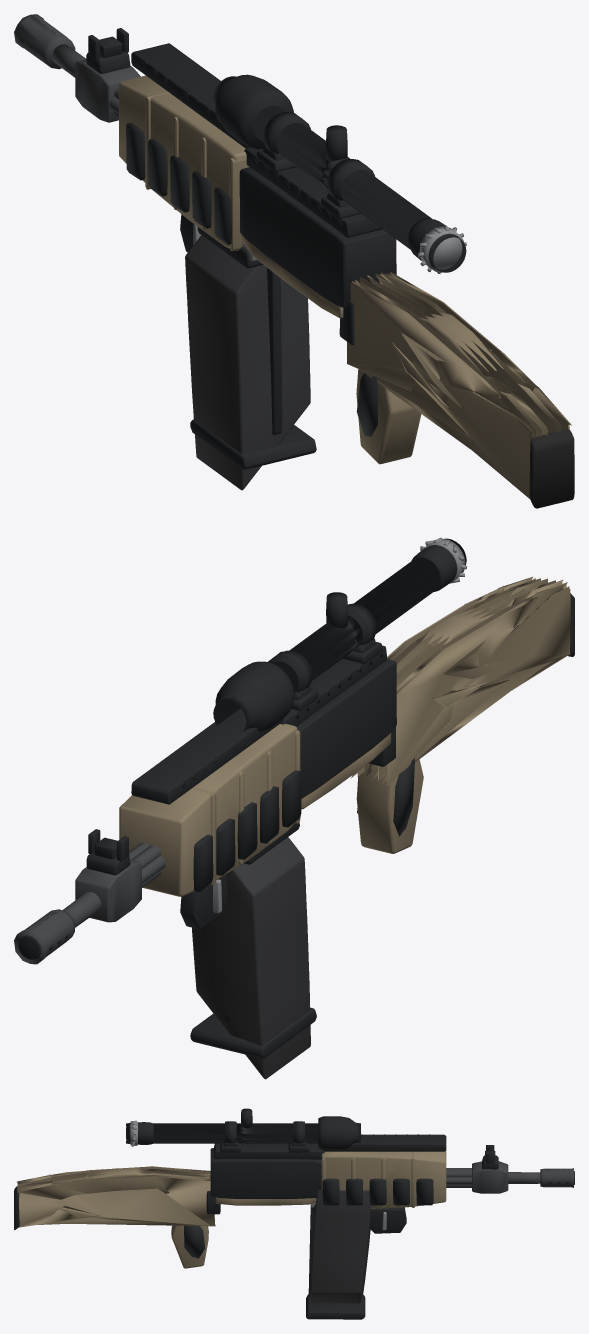
The model's file is scar-20.glb.
3 views of the same model, one above another, from view 1: azimuth 30°, elevation 25°; view 2: azimuth 150°, elevation 25°; view 3: azimuth 270°, elevation 25° (orthographic). The views are drawn at different scales.
Parts seen in each view (by area): view 1: FrontSightBase_Batched, CheekRiser_Batched, MagazineBody, Barrel_Batched, ButtPad, MagazineFloor, MagazineSpine, CheekScrew0_Batched; view 2: CheekRiser_Batched, FrontSightBase_Batched, MagazineBody, Barrel_Batched, MagazineFloor, TriggerAssemblyGuard; view 3: CheekRiser_Batched, FrontSightBase_Batched, MagazineBody, Barrel_Batched, MagazineFloor, TriggerAssemblyGuard, MagazineSpine.
Boxes of the visible parts, left/top/right/bottom form: FrontSightBase_Batched: left=19, top=19, right=466, bottom=436; CheekRiser_Batched: left=119, top=75, right=571, bottom=498; MagazineBody: left=185, top=235, right=310, bottom=490; Barrel_Batched: left=14, top=14, right=140, bottom=122; ButtPad: left=529, top=429, right=574, bottom=508; MagazineFloor: left=190, top=419, right=316, bottom=469; MagazineSpine: left=267, top=267, right=282, bottom=435; CheekScrew0_Batched: left=418, top=225, right=491, bottom=350; CheekRiser_Batched: left=119, top=577, right=570, bottom=896; FrontSightBase_Batched: left=18, top=538, right=466, bottom=959; MagazineBody: left=192, top=837, right=310, bottom=1079; Barrel_Batched: left=14, top=843, right=165, bottom=964; MagazineFloor: left=190, top=1007, right=316, bottom=1058; TriggerAssemblyGuard: left=180, top=874, right=227, bottom=929; CheekRiser_Batched: left=14, top=1150, right=446, bottom=1268; FrontSightBase_Batched: left=126, top=1108, right=574, bottom=1258; MagazineBody: left=310, top=1190, right=371, bottom=1303; Barrel_Batched: left=446, top=1161, right=573, bottom=1193; MagazineFloor: left=306, top=1294, right=365, bottom=1319; TriggerAssemblyGuard: left=369, top=1207, right=406, bottom=1233; MagazineSpine: left=308, top=1207, right=361, bottom=1296.
Size of the model in its own units: 0.1004 by 0.4377 by 1.05.
